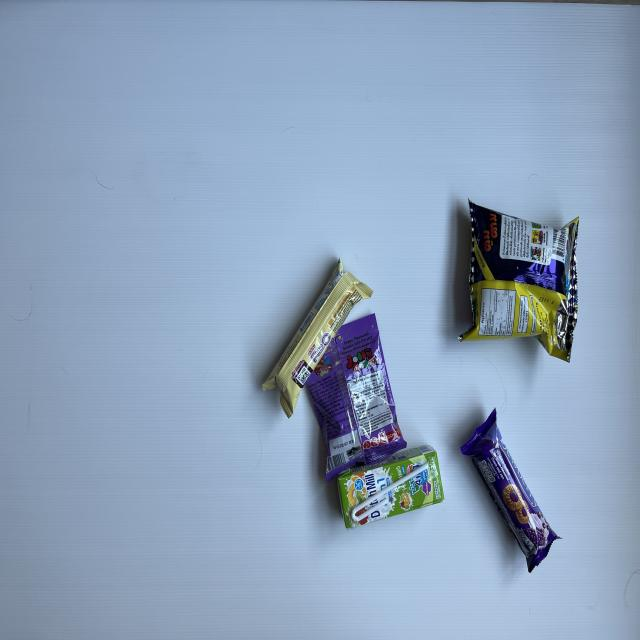candy: (305, 313, 408, 483)
cracker: (261, 255, 375, 420), (460, 406, 564, 574)
milk: (337, 443, 446, 531)
snack: (459, 197, 580, 363)
